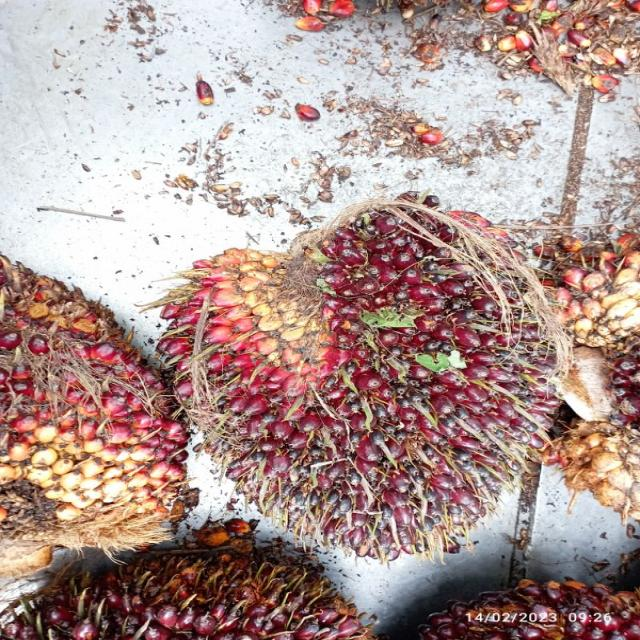fraksi 1: (158, 206, 546, 556)
